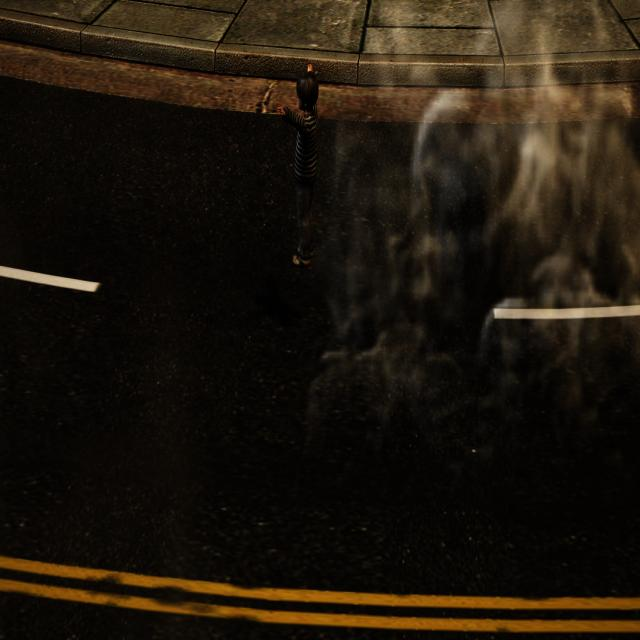Human: (276, 61, 323, 274)
